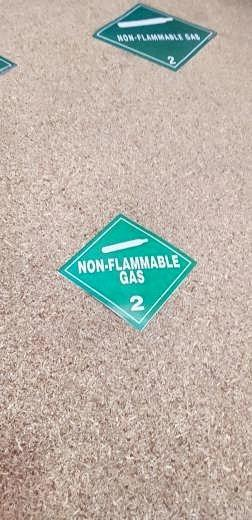non-flammable-gas: (57, 212, 199, 331), (90, 2, 219, 72)
